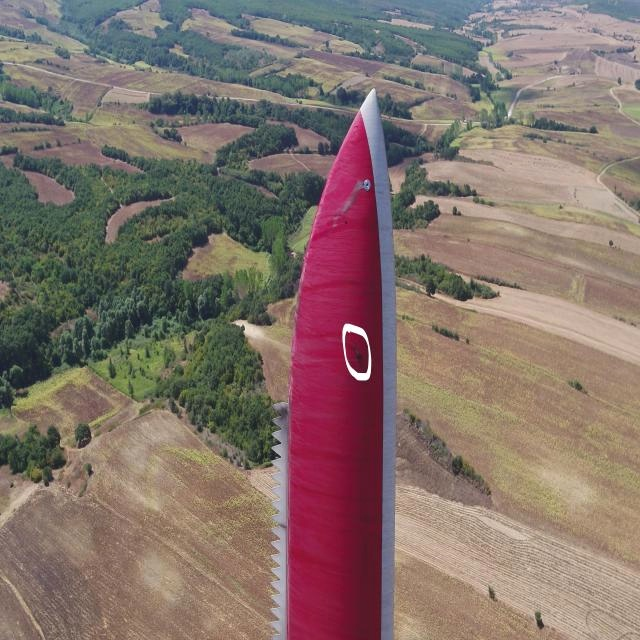Coating_defects: (346, 337, 370, 372), (352, 178, 373, 192)
